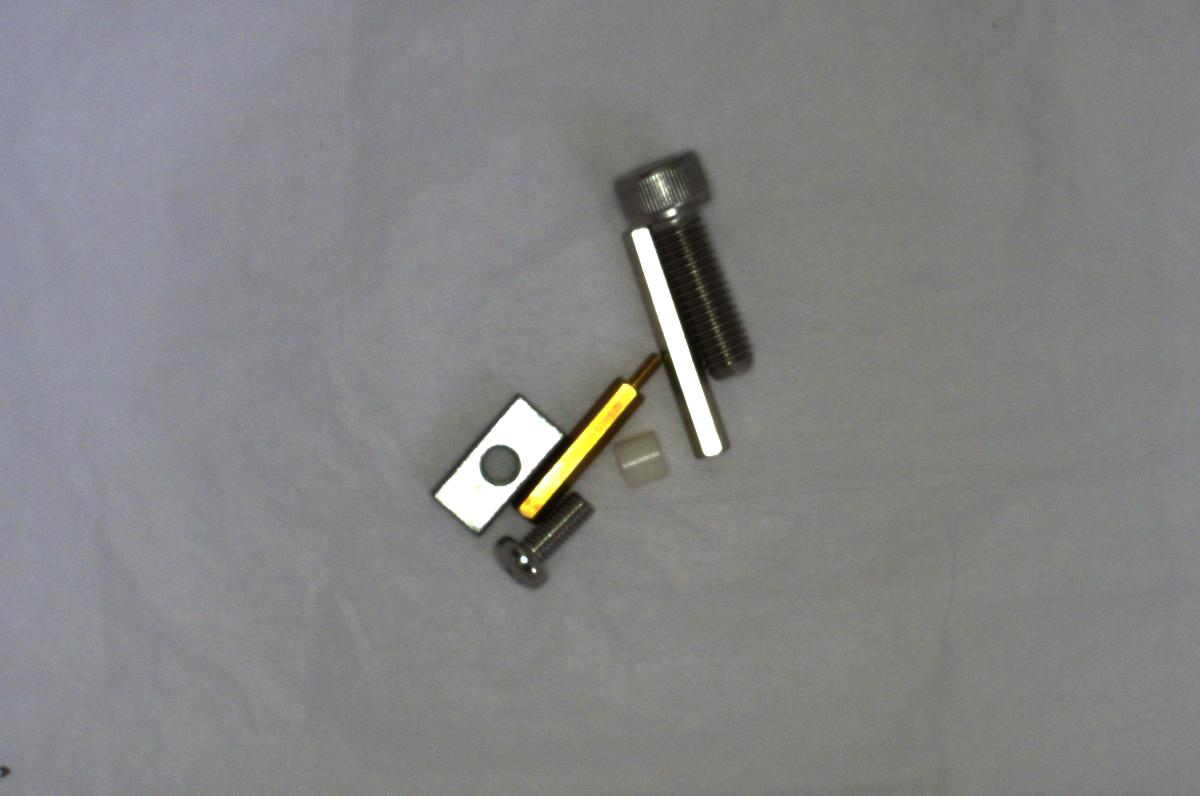Double hexagonal column: (615, 216, 746, 466)
Hexagon pillar: (511, 348, 664, 520)
Hexagon screw: (611, 135, 773, 386)
Plastic cushion pillar: (610, 421, 675, 494)
Rectangular nut: (427, 387, 558, 533)
Round head screw: (492, 493, 599, 592)
